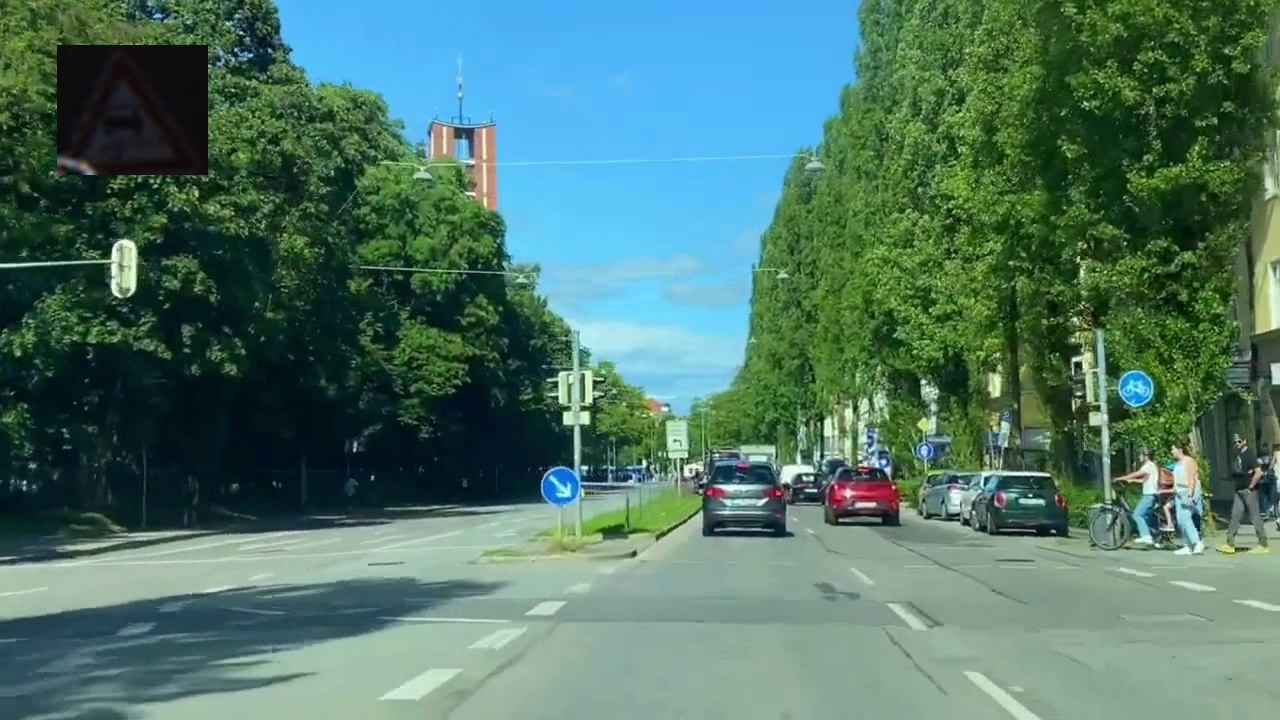Slippery: (57, 45, 208, 175)
